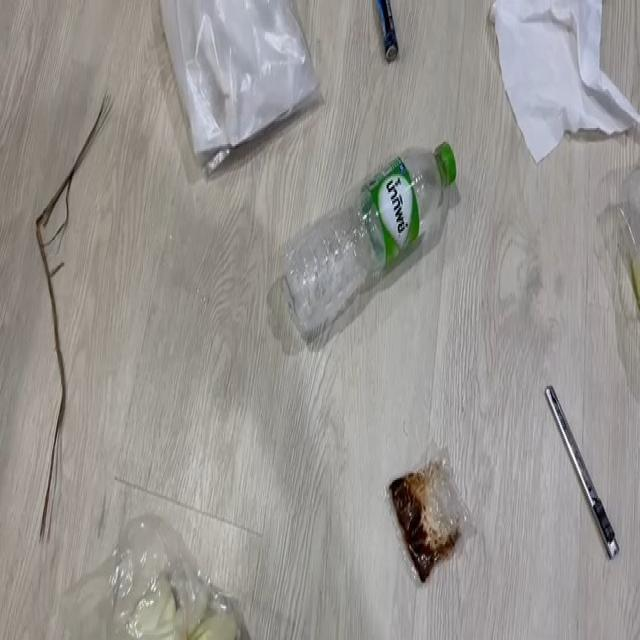Anorganik: (276, 132, 474, 332), (189, 0, 318, 166), (502, 0, 638, 148), (544, 380, 640, 560)
B3: (35, 75, 119, 496), (110, 531, 255, 632), (383, 446, 485, 579), (374, 0, 408, 72)
